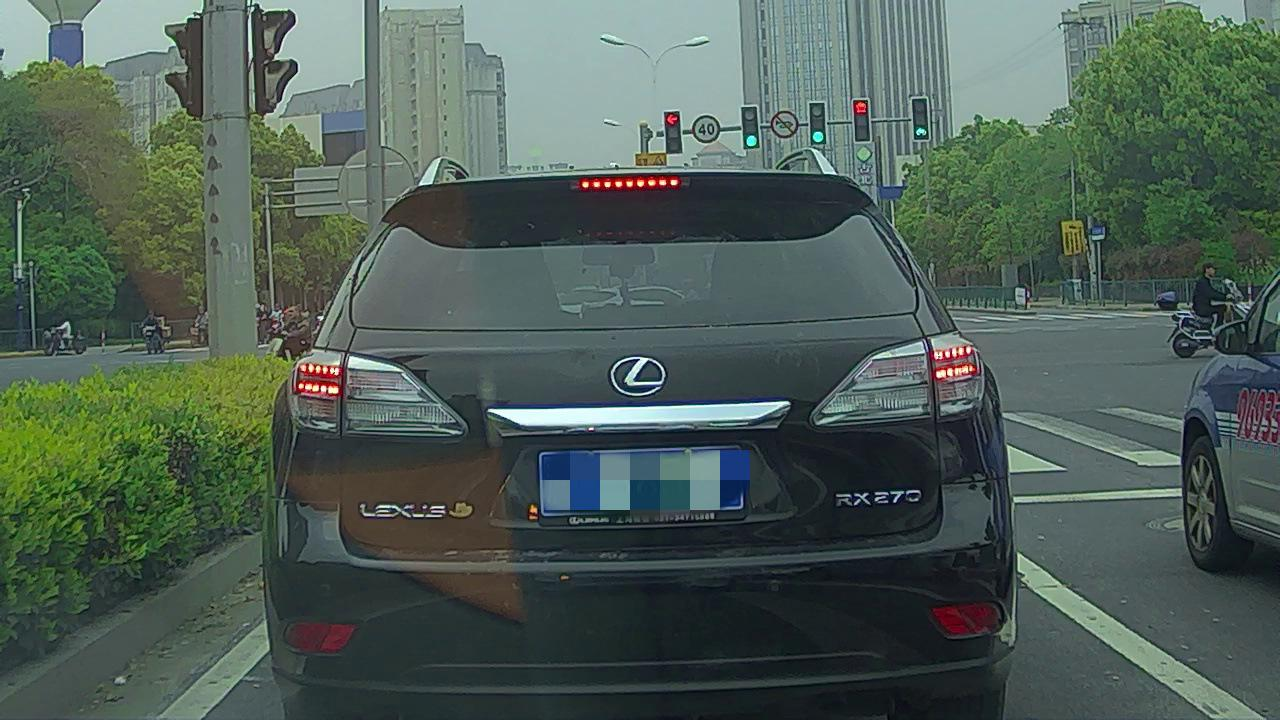traffic_light: (741, 106, 760, 149), (665, 108, 682, 154), (912, 98, 929, 141), (809, 100, 825, 145), (855, 100, 871, 144)
